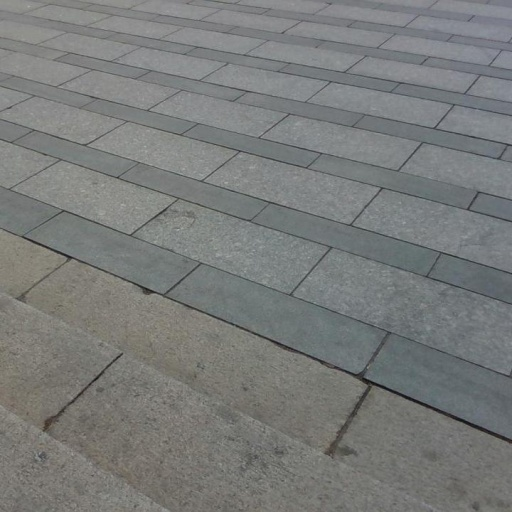Stairs: (4, 238, 512, 510)
